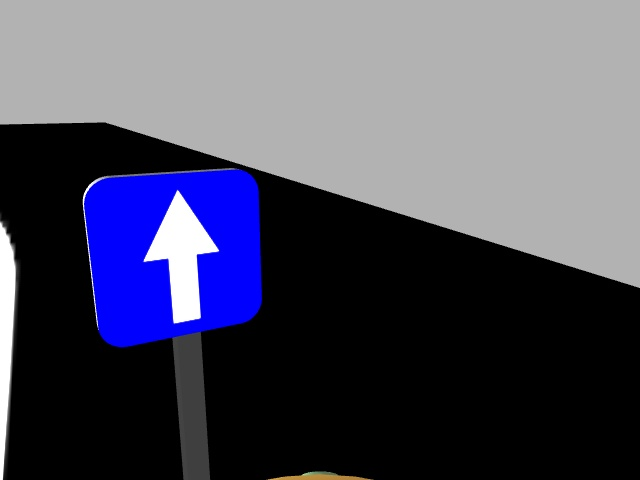OneWay: (80, 172, 260, 337)
